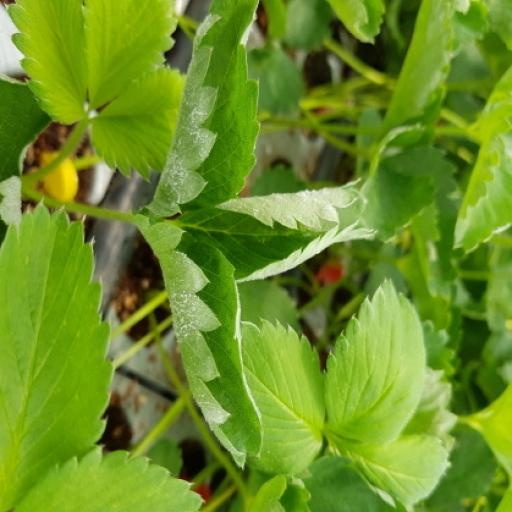Powdery Mildew Leaf: (133, 42, 266, 298), (138, 292, 262, 511), (167, 229, 378, 334)
